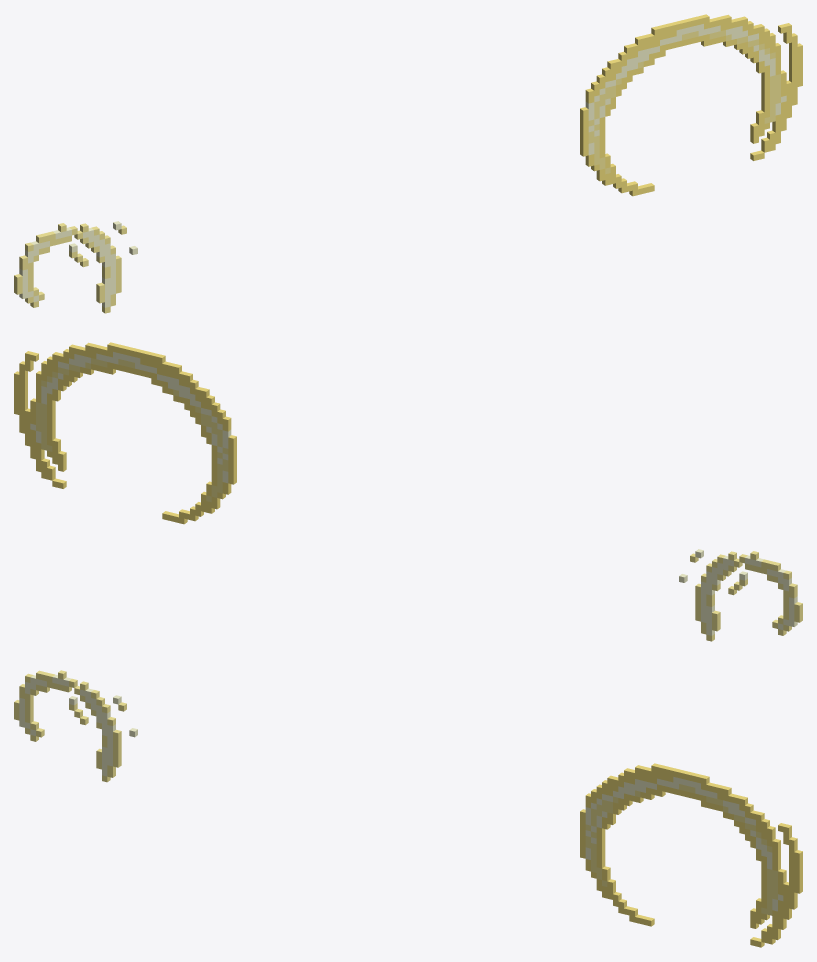
Rendered from Fight_709_3_08_fx.obj.
The picture shows the model from 3 angles, top to bottom: view 1: azimuth 30°, elevation 25°; view 2: azimuth 150°, elevation 25°; view 3: azimuth 330°, elevation 25°; orthographic projection.
Size of the model in its own units: 14.3 by 2.8 by 0.1.
